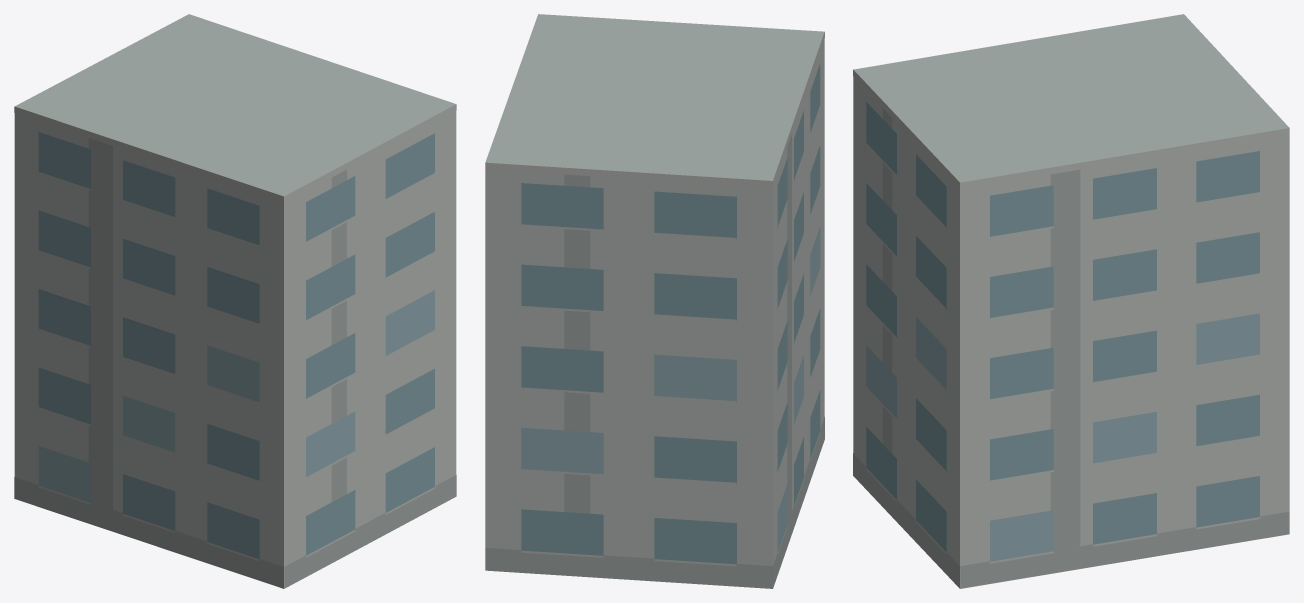
File: survey-upis-32893266.glb
The picture shows the model from 3 angles, left to right: view 1: azimuth 30°, elevation 25°; view 2: azimuth 150°, elevation 25°; view 3: azimuth 270°, elevation 25°; orthographic projection. The views are drawn at different scales.
Visible parts, largest first — view 1: survey-upis-32893266.tmp; view 2: survey-upis-32893266.tmp; view 3: survey-upis-32893266.tmp.
Boxes of the visible parts, x1,y1,x2,y2 form: survey-upis-32893266.tmp: (14, 14, 456, 588); survey-upis-32893266.tmp: (485, 14, 824, 588); survey-upis-32893266.tmp: (853, 14, 1289, 588).
Bounding box in the file's own units: 12.97 × 14.55 × 14.18.
